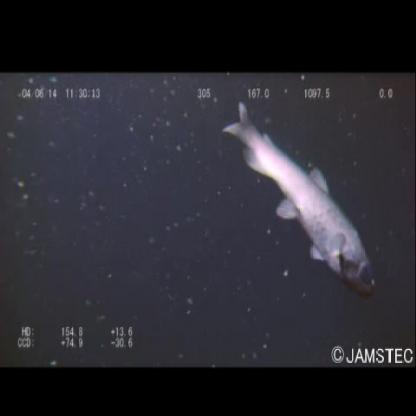Bio: (221, 99, 377, 303)
